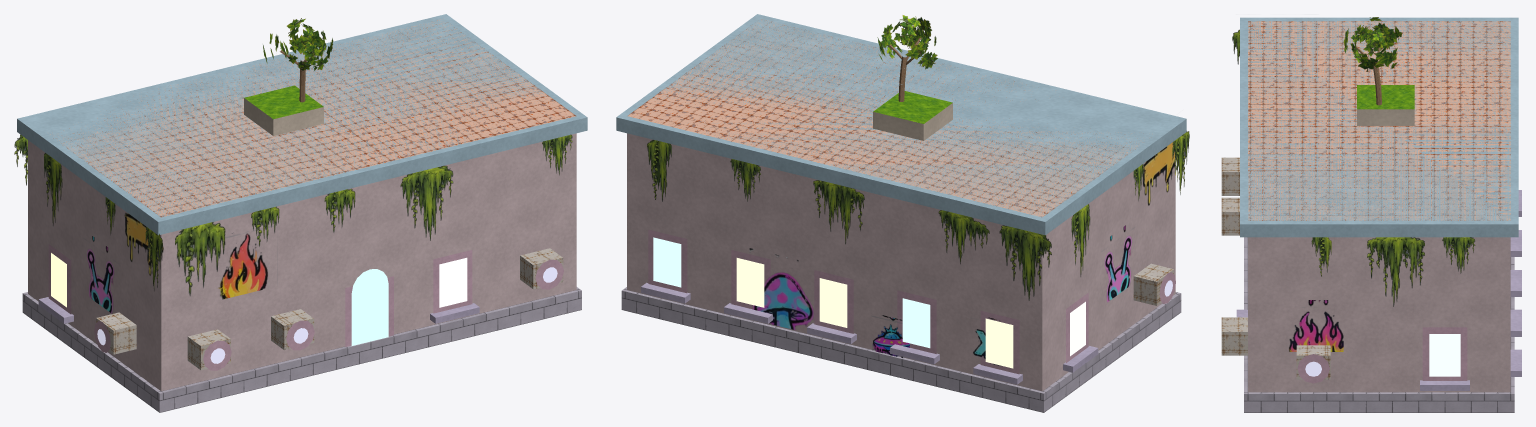
Rendered from BUILDING_05.glb.
3 views of the same model, side by side, from view 1: azimuth 30°, elevation 25°; view 2: azimuth 150°, elevation 25°; view 3: azimuth 270°, elevation 25° (orthographic).
Parts seen in each view (by area): view 1: B_AS_05_Skin, B_AS_05_Moss, BUILDING_05_Trees; view 2: B_AS_05_Skin, B_AS_05_Moss, BUILDING_05_Trees; view 3: B_AS_05_Skin, B_AS_05_Moss, BUILDING_05_Trees.
Boxes of the visible parts, <box> form: B_AS_05_Skin: <box>17,14,587,412</box>; B_AS_05_Moss: <box>14,134,572,296</box>; BUILDING_05_Trees: <box>263,18,333,102</box>; B_AS_05_Skin: <box>616,14,1186,412</box>; B_AS_05_Moss: <box>647,131,1189,300</box>; BUILDING_05_Trees: <box>877,15,937,101</box>; B_AS_05_Skin: <box>1221,17,1521,412</box>; B_AS_05_Moss: <box>1232,29,1475,306</box>; BUILDING_05_Trees: <box>1343,17,1402,105</box>.
Size of the model in its own units: 20.28 by 12.3 by 11.57.
13 materials, 9 textured.
